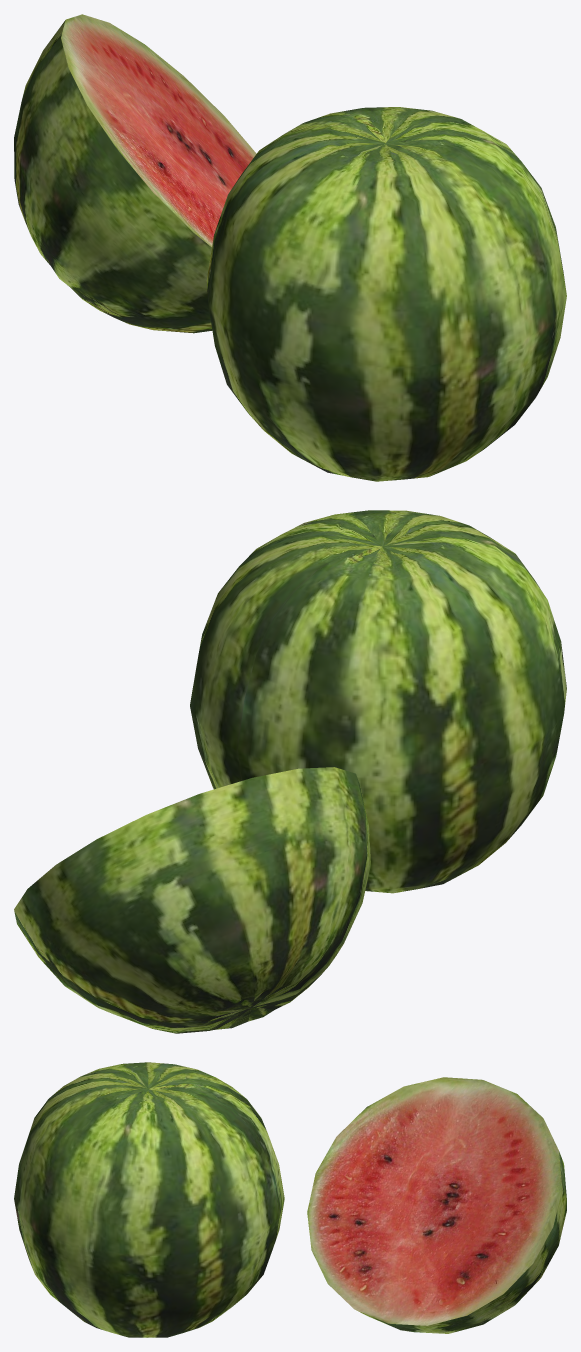
File: arbuz.DAE
3 renders of one model, top to bottom at view 1: azimuth 30°, elevation 25°; view 2: azimuth 150°, elevation 25°; view 3: azimuth 270°, elevation 25°, orthographic. The views are drawn at different scales.
Visible parts, largest first — view 1: Sphere02, Sphere03; view 2: Sphere02, Sphere03; view 3: Sphere02, Sphere03.
Boxes of the visible parts, x1,y1,x2,y2 form: Sphere02: (206,107,566,481); Sphere03: (14,14,256,333); Sphere02: (190,510,566,893); Sphere03: (14,767,370,1033); Sphere02: (14,1062,284,1337); Sphere03: (307,1077,566,1333).
Bounding box in the file's own units: 120 × 245 × 116.
Materials: 1 (1 with a texture image).
